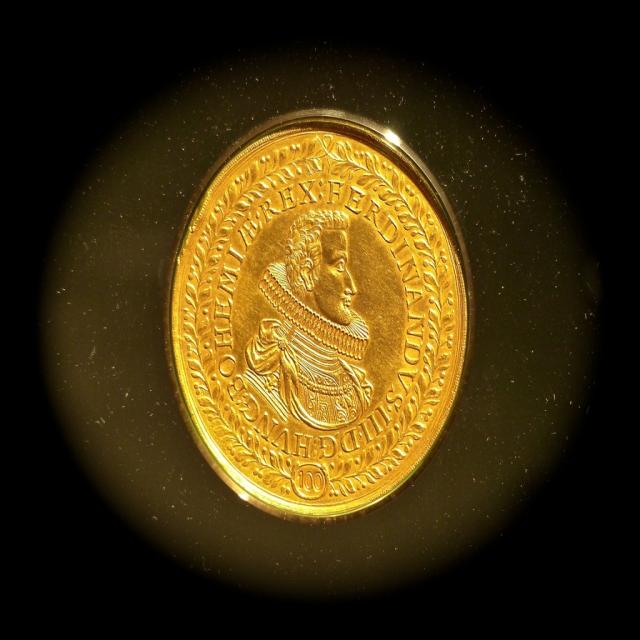Coin: (168, 133, 466, 511)
